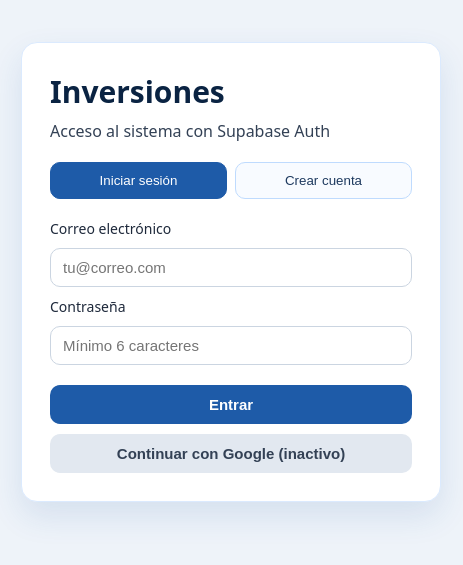
Test case: LoginPage › valida longitud minima de contraseña
In the field labelled "Correo electrónico": (231, 268) [50, 248, 412, 287], type "demo@correo.com"
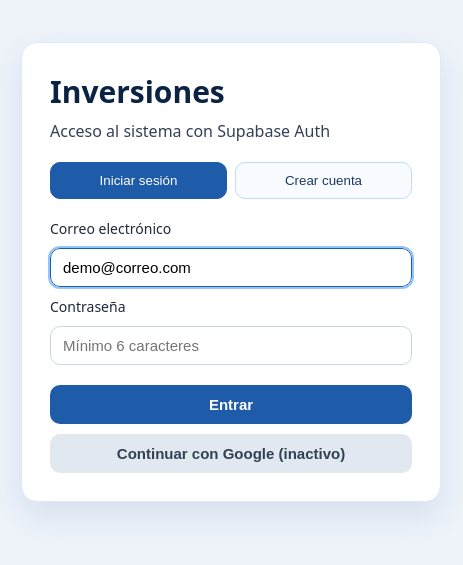
In the password field labelled "Contraseña": (231, 346) [50, 326, 412, 365], type "123"
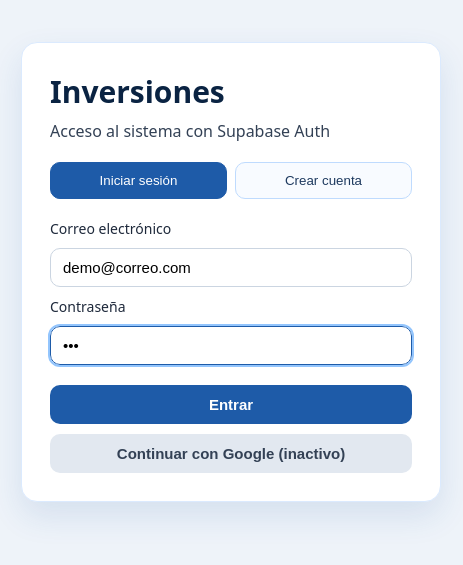
Click the button "Entrar": (231, 404) [50, 385, 412, 424]
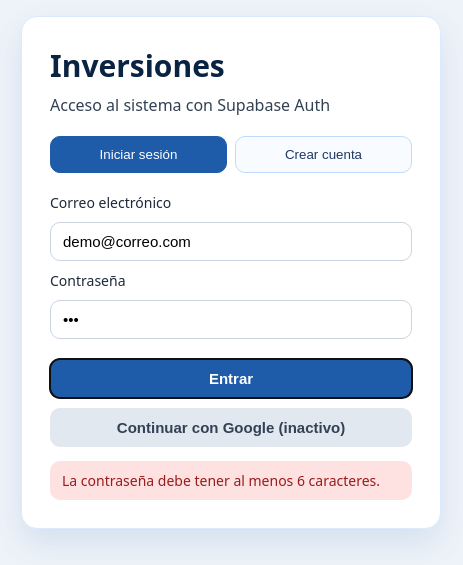
Now the text "La contraseña debe tener al menos 6 caracteres." is shown, box [50, 460, 412, 500]
